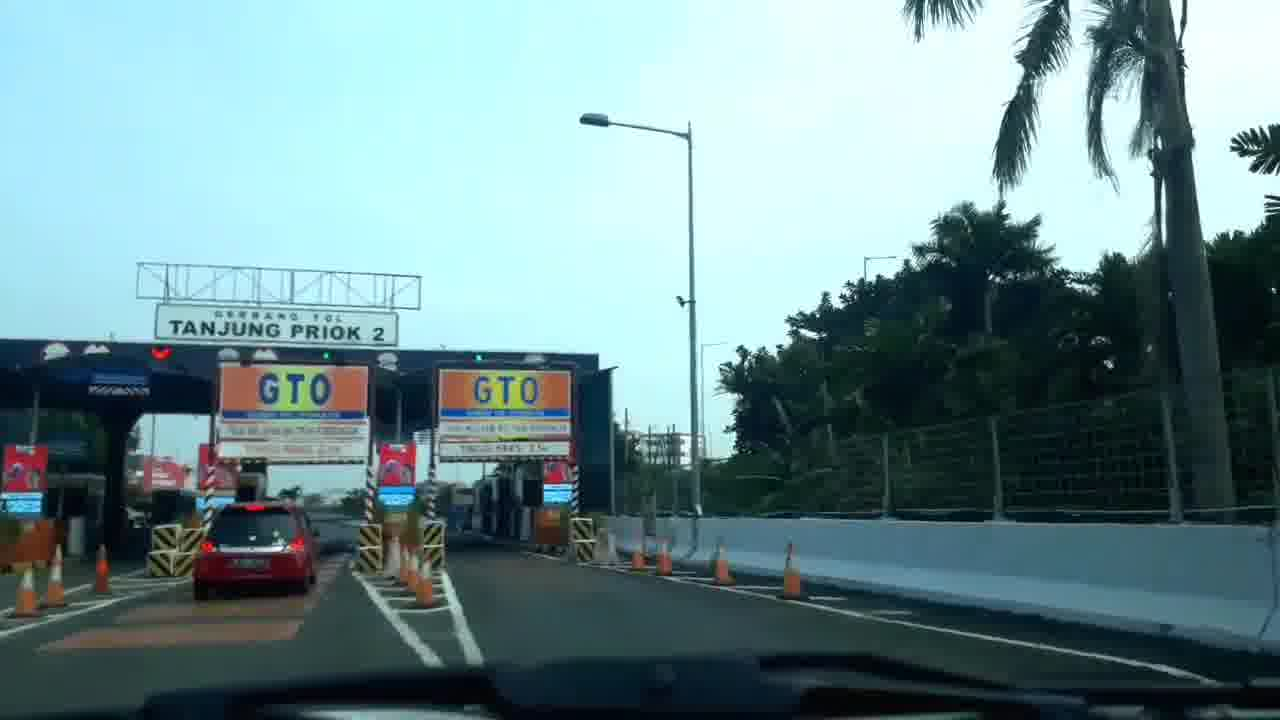plate_positive: (232, 558, 265, 569)
